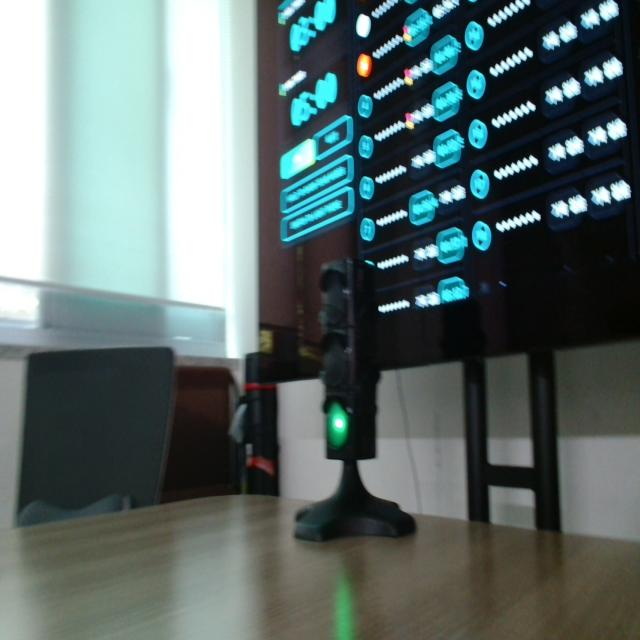green_light: (327, 402, 349, 449)
